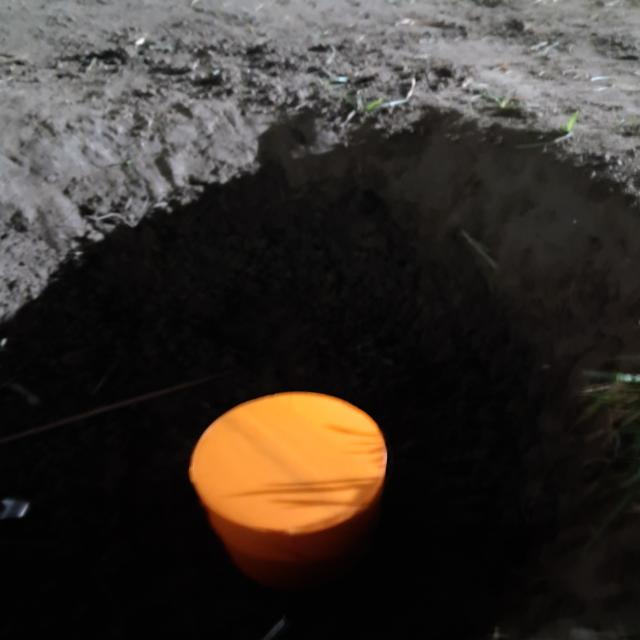Cylinder: (188, 390, 388, 587)
